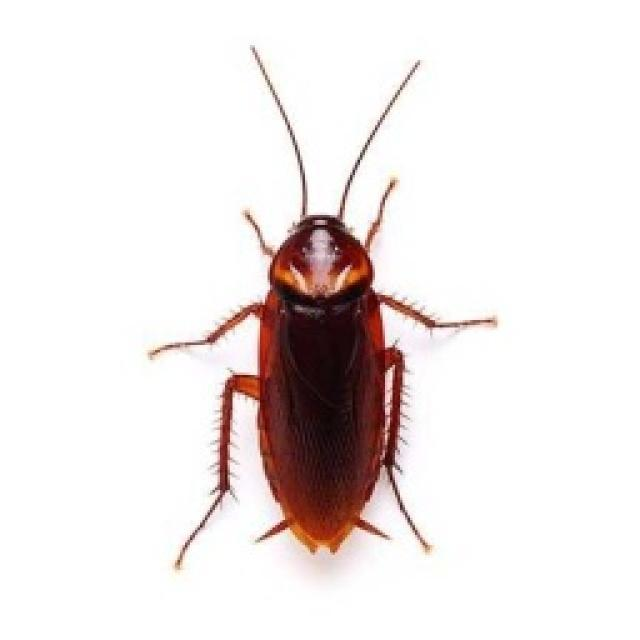cockroach: (144, 41, 502, 573)
